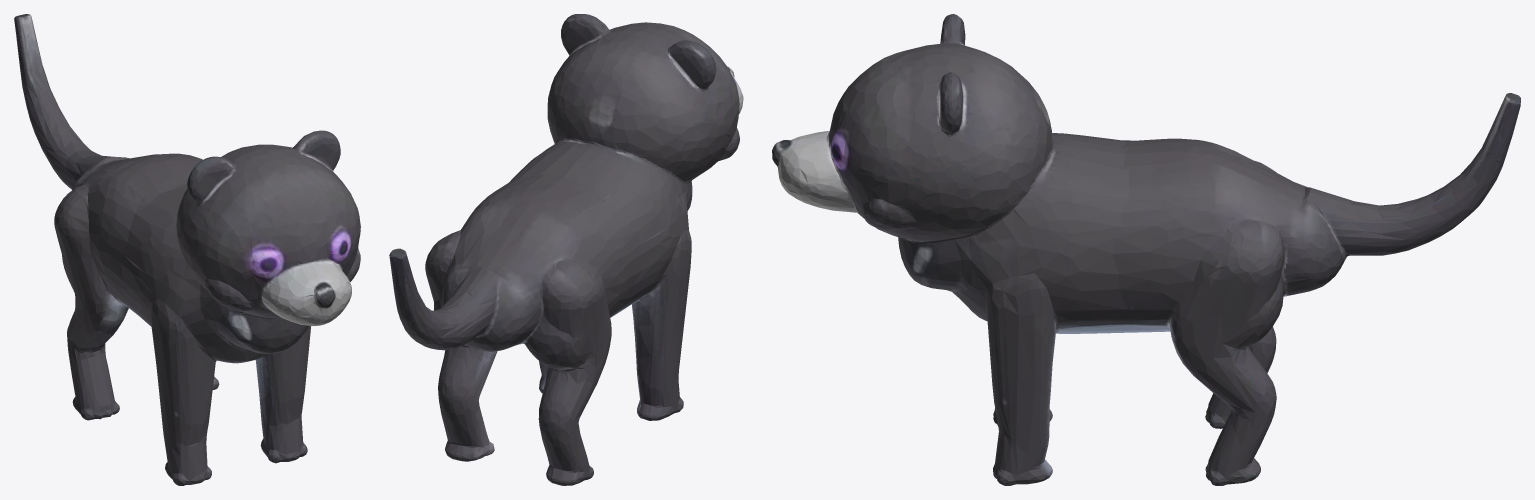
The model's file is creature-094.lod.glb.
3 views of the same model, side by side, from view 1: azimuth 30°, elevation 25°; view 2: azimuth 150°, elevation 25°; view 3: azimuth 270°, elevation 25° (orthographic). The views are drawn at different scales.
Visible parts, largest first — view 1: tmpzypsxpbd.ply; view 2: tmpzypsxpbd.ply; view 3: tmpzypsxpbd.ply.
Boxes of the visible parts, x1,y1,x2,y2 form: tmpzypsxpbd.ply: (14, 14, 360, 485); tmpzypsxpbd.ply: (389, 14, 743, 485); tmpzypsxpbd.ply: (772, 14, 1520, 485).
Size of the model in its own units: 0.5873 by 1.19 by 1.99.
1 material, 1 textured.
